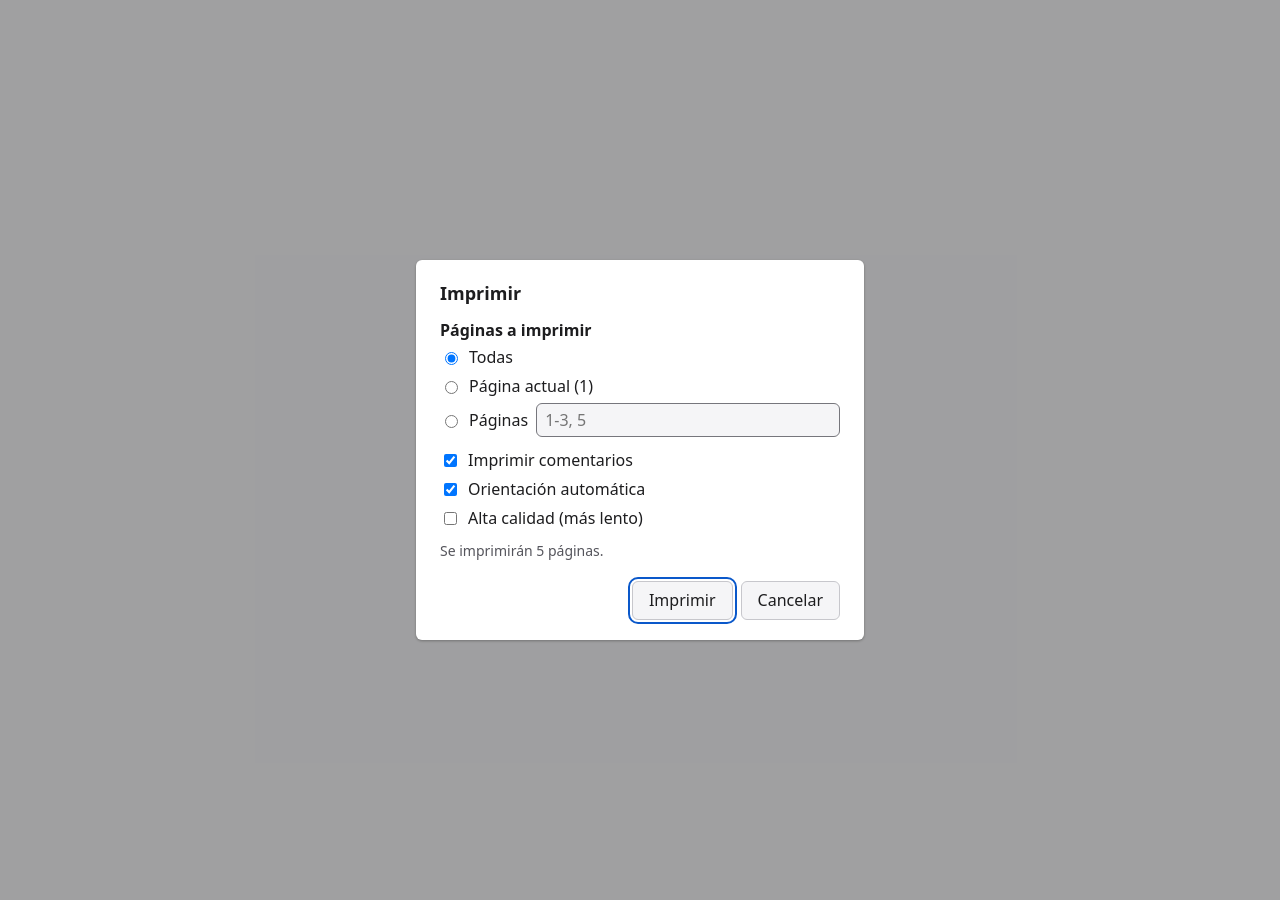
Test case: diálogo Imprimir › un rango con 9999 páginas en un documento de 5 tampoco se acepta
Type "1-9999" into the field named "Rango de páginas". click: x=688, y=420
box: [536, 403, 840, 437]
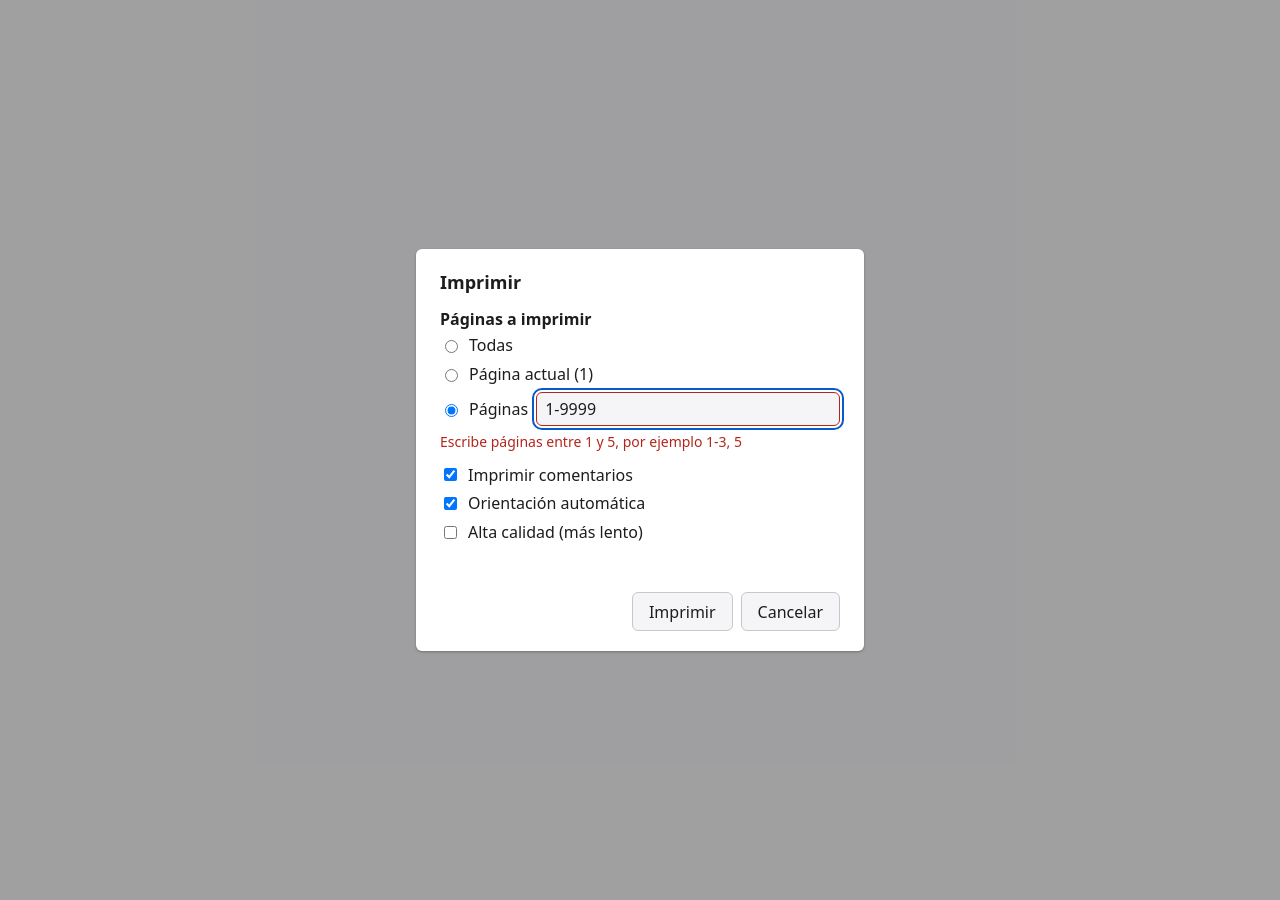
Expected: the button "Imprimir" is disabled, [632, 592, 733, 631]
Expected: the text "Se imprimirán" is gone
